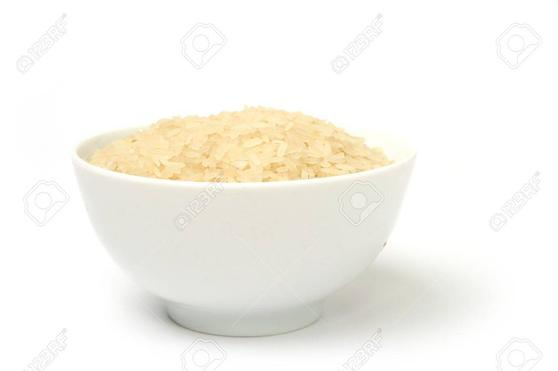rice: (80, 103, 408, 184)
